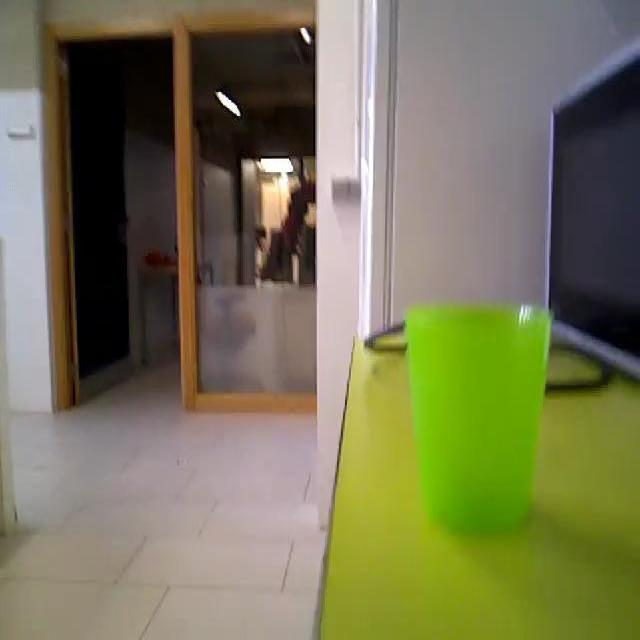cup: (403, 289, 553, 546)
